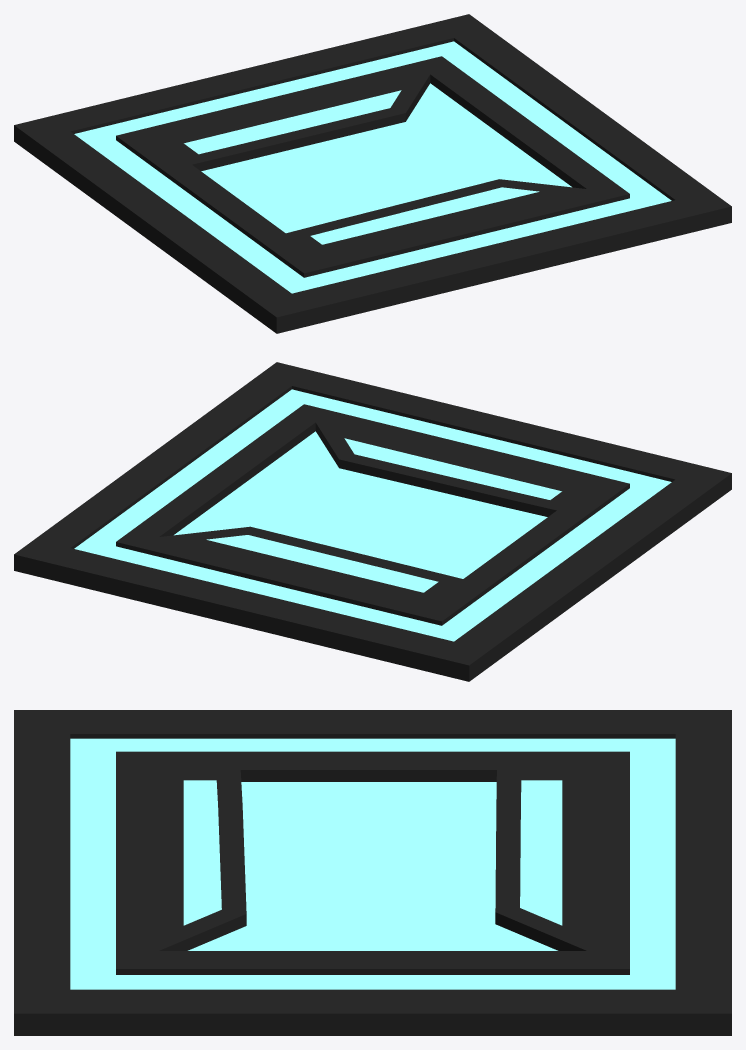
Rendered from PressurePlate.fbx.
3 views of the same model, one above another, from view 1: azimuth 30°, elevation 25°; view 2: azimuth 150°, elevation 25°; view 3: azimuth 270°, elevation 25° (orthographic). The views are drawn at different scales.
Parts seen in each view (by area): view 1: PressurePlate; view 2: PressurePlate; view 3: PressurePlate.
Boxes of the visible parts, <box> form: PressurePlate: <box>14,14,731,333</box>; PressurePlate: <box>14,362,731,681</box>; PressurePlate: <box>14,710,731,1035</box>.
Bounding box in the file's own units: 200 × 7.29 × 200.
